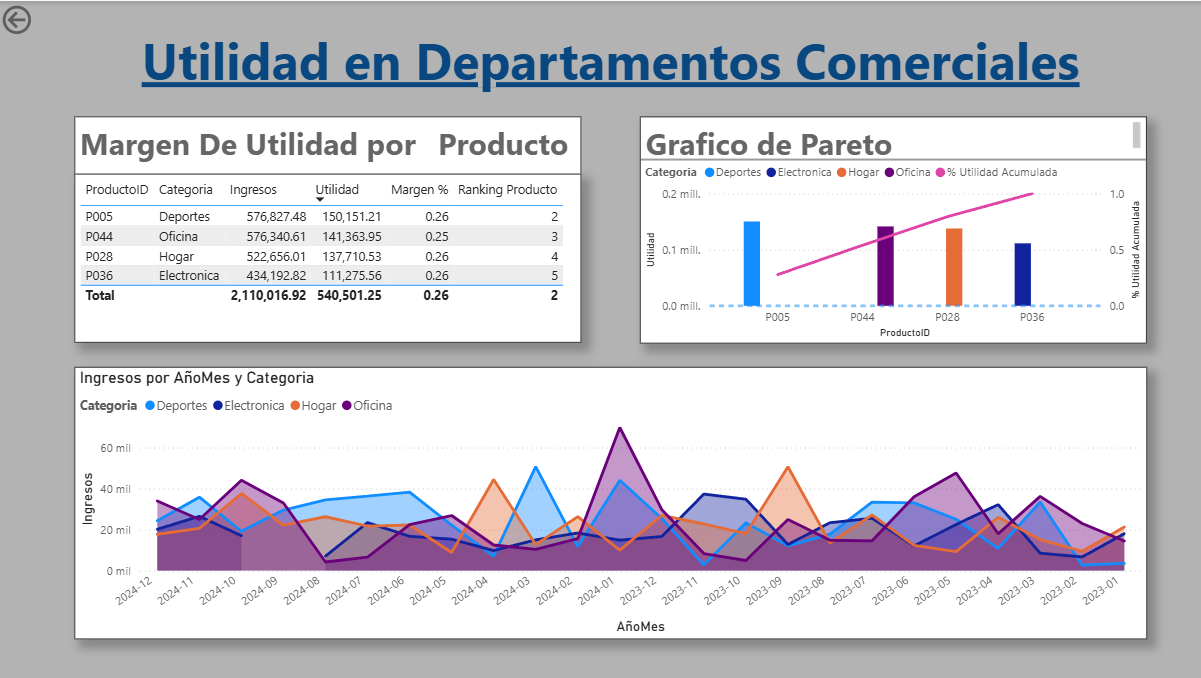

Layout of this report page (visuals, bound fields, positions):
{"tool":"powerbi","page":{"name":"Página 1","canvas":[1280,720],"ordinal":0},"visuals":[{"type":"tableEx","fields":{"Values":["DimProducto.ProductoID","DimProducto.Categoria","FactVentas.Ingresos","FactVentas.Utilidad","FactVentas.Margen %","FactVentas.Ranking Producto"]},"box":[81.5,183.3,537,179.6],"z":0},{"type":"lineClusteredColumnComboChart","fields":{"Category":["DimProducto.ProductoID"],"Y":["FactVentas.Utilidad"],"Y2":["FactVentas.% Utilidad Acumulada"],"Series":["DimProducto.Categoria"]},"box":[681.5,122.2,537,240.7],"z":1000},{"type":"actionButton","box":[0,0,100,40],"z":2000},{"type":"textbox","box":[81.5,20.4,1137,81.5],"z":3000},{"type":"textbox","box":[81.5,122.2,537,61.1],"z":4000},{"type":"textbox","box":[681.5,122.2,537,46.3],"z":5000},{"type":"areaChart","fields":{"Category":["DimFecha.AñoMes"],"Y":["FactVentas.Ingresos"],"Series":["DimProducto.Categoria"]},"box":[81.5,388.9,1137,288.9],"z":6000}]}

Visuals, with their boxes in screenshot pixels (x1, y1, x2, y2), scaled from the page's 1280x720 canvas onto the 1201x678 screenshot:
tableEx - DimProducto.ProductoID x DimProducto.Categoria: BBox(76, 173, 580, 342)
lineClusteredColumnComboChart - DimProducto.ProductoID x FactVentas.Utilidad: BBox(639, 115, 1143, 342)
actionButton: BBox(0, 0, 94, 38)
textbox: BBox(76, 19, 1143, 96)
textbox: BBox(76, 115, 580, 173)
textbox: BBox(639, 115, 1143, 159)
areaChart - DimFecha.AñoMes x FactVentas.Ingresos: BBox(76, 366, 1143, 638)
